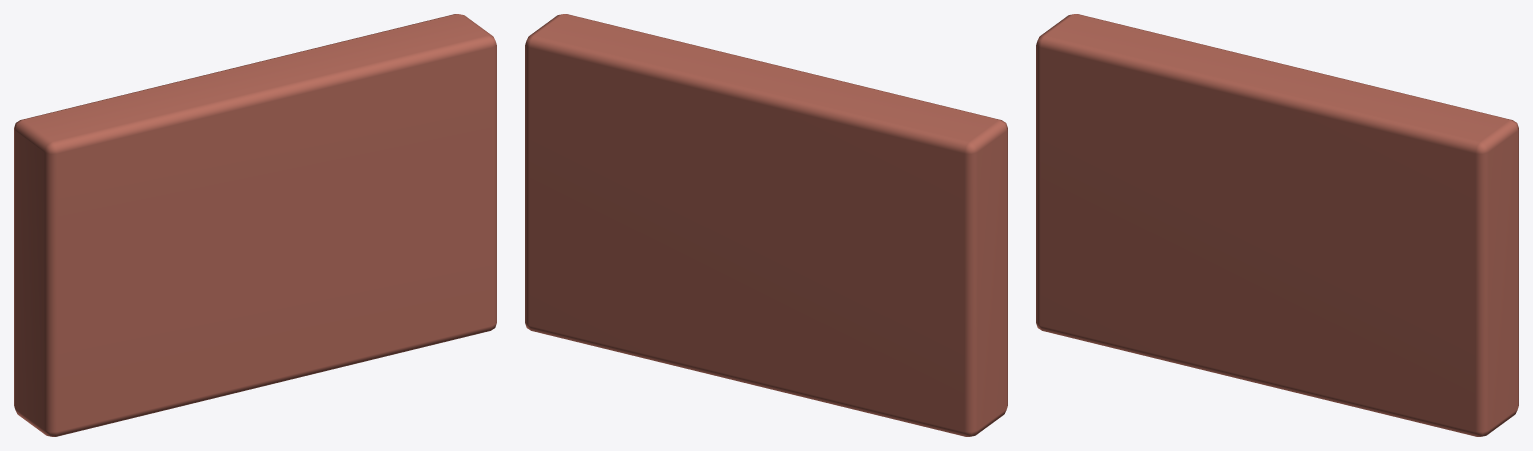
Rendered from Wall_Obstacle_Quarter.fbx.
3 renders of one model, left to right at view 1: azimuth 30°, elevation 25°; view 2: azimuth 150°, elevation 25°; view 3: azimuth 330°, elevation 25°, orthographic.
Parts seen in each view (by area): view 1: Wall_Obstacle_Quarter; view 2: Wall_Obstacle_Quarter; view 3: Wall_Obstacle_Quarter.
Part boxes in pixels (x1,y1,x2,y2): Wall_Obstacle_Quarter: (14,14,496,436); Wall_Obstacle_Quarter: (525,14,1007,436); Wall_Obstacle_Quarter: (1036,14,1518,436).
Bounding box in the file's own units: 160 × 100 × 23.89.
